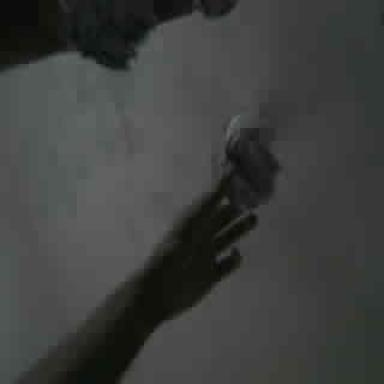paper: (218, 110, 280, 210)
